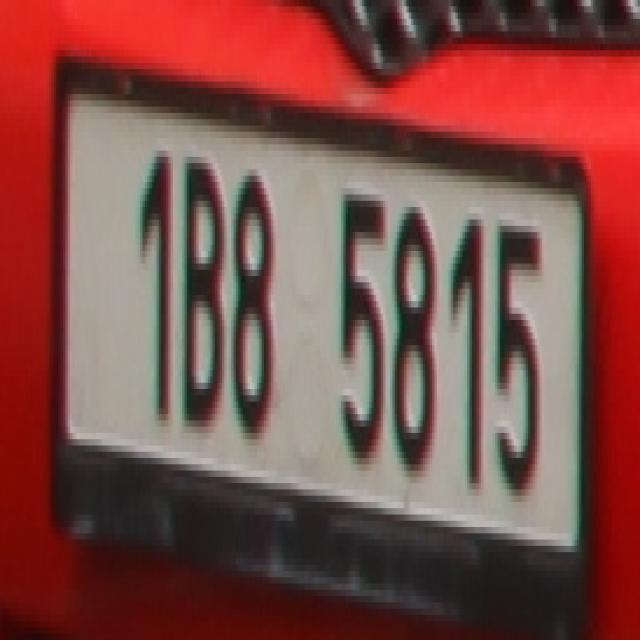1: (448, 207, 484, 483), (138, 144, 173, 414)
5: (492, 213, 544, 502), (336, 182, 386, 464)
8: (229, 163, 276, 446), (394, 207, 440, 471)
B: (180, 150, 222, 420)
